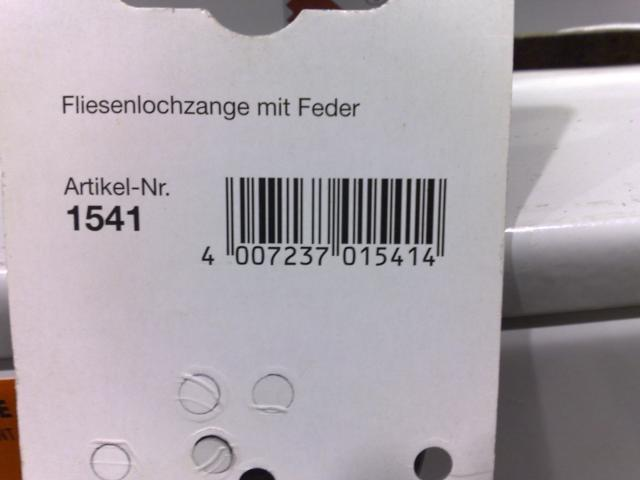Barcode: (190, 163, 464, 283)
